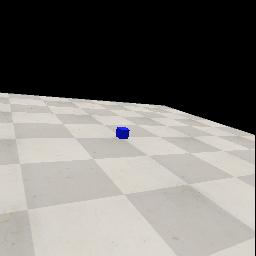box: (116, 127, 130, 139)
